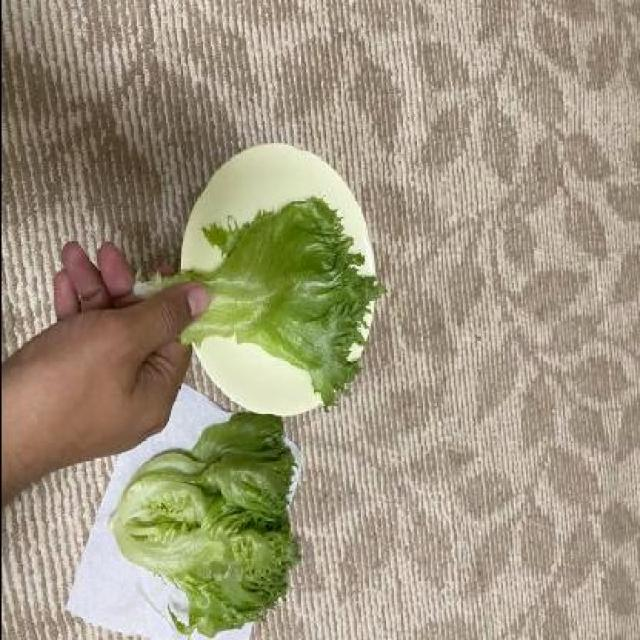Lettuce: (101, 404, 321, 640), (171, 190, 386, 413)
